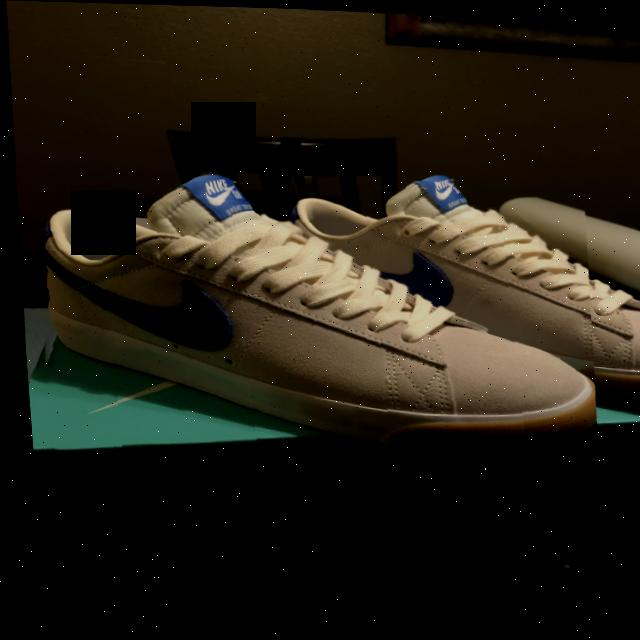shoe: (16, 162, 597, 472), (269, 157, 640, 411)
